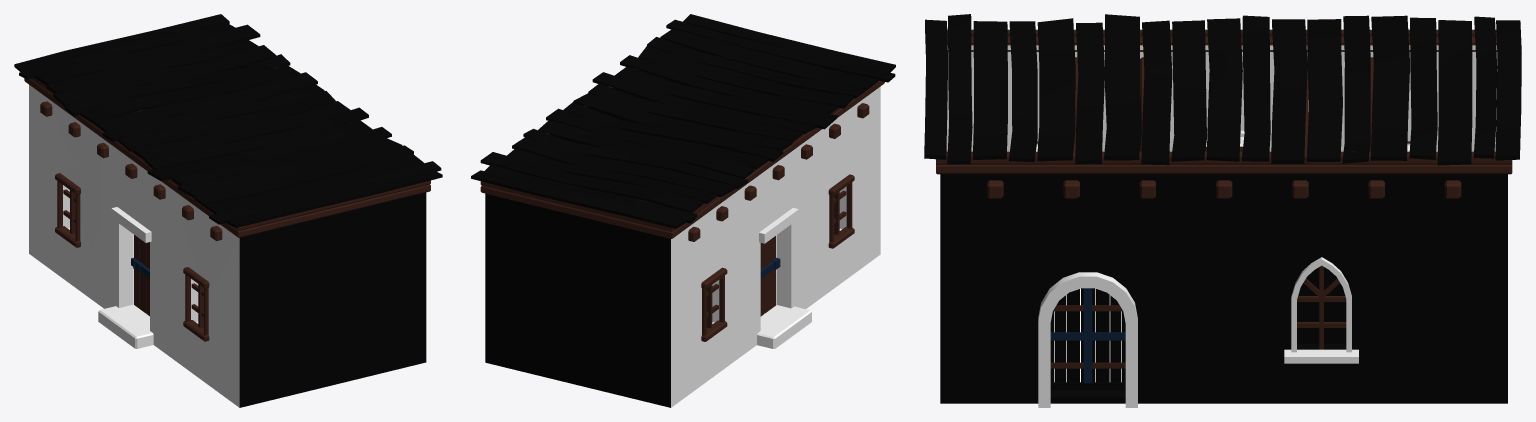
Rendered from civilian_house_38_b.FBX.
3 renders of one model, left to right at view 1: azimuth 30°, elevation 25°; view 2: azimuth 150°, elevation 25°; view 3: azimuth 270°, elevation 25°, orthographic. The views are drawn at different scales.
Visible parts, largest first — view 1: civilian_house_38_b; view 2: civilian_house_38_b; view 3: civilian_house_38_b.
Boxes of the visible parts, x1,y1,x2,y2 form: civilian_house_38_b: (14, 14, 442, 407); civilian_house_38_b: (471, 14, 895, 407); civilian_house_38_b: (924, 14, 1521, 407).
Size of the model in its own units: 615 by 502 by 1053.
